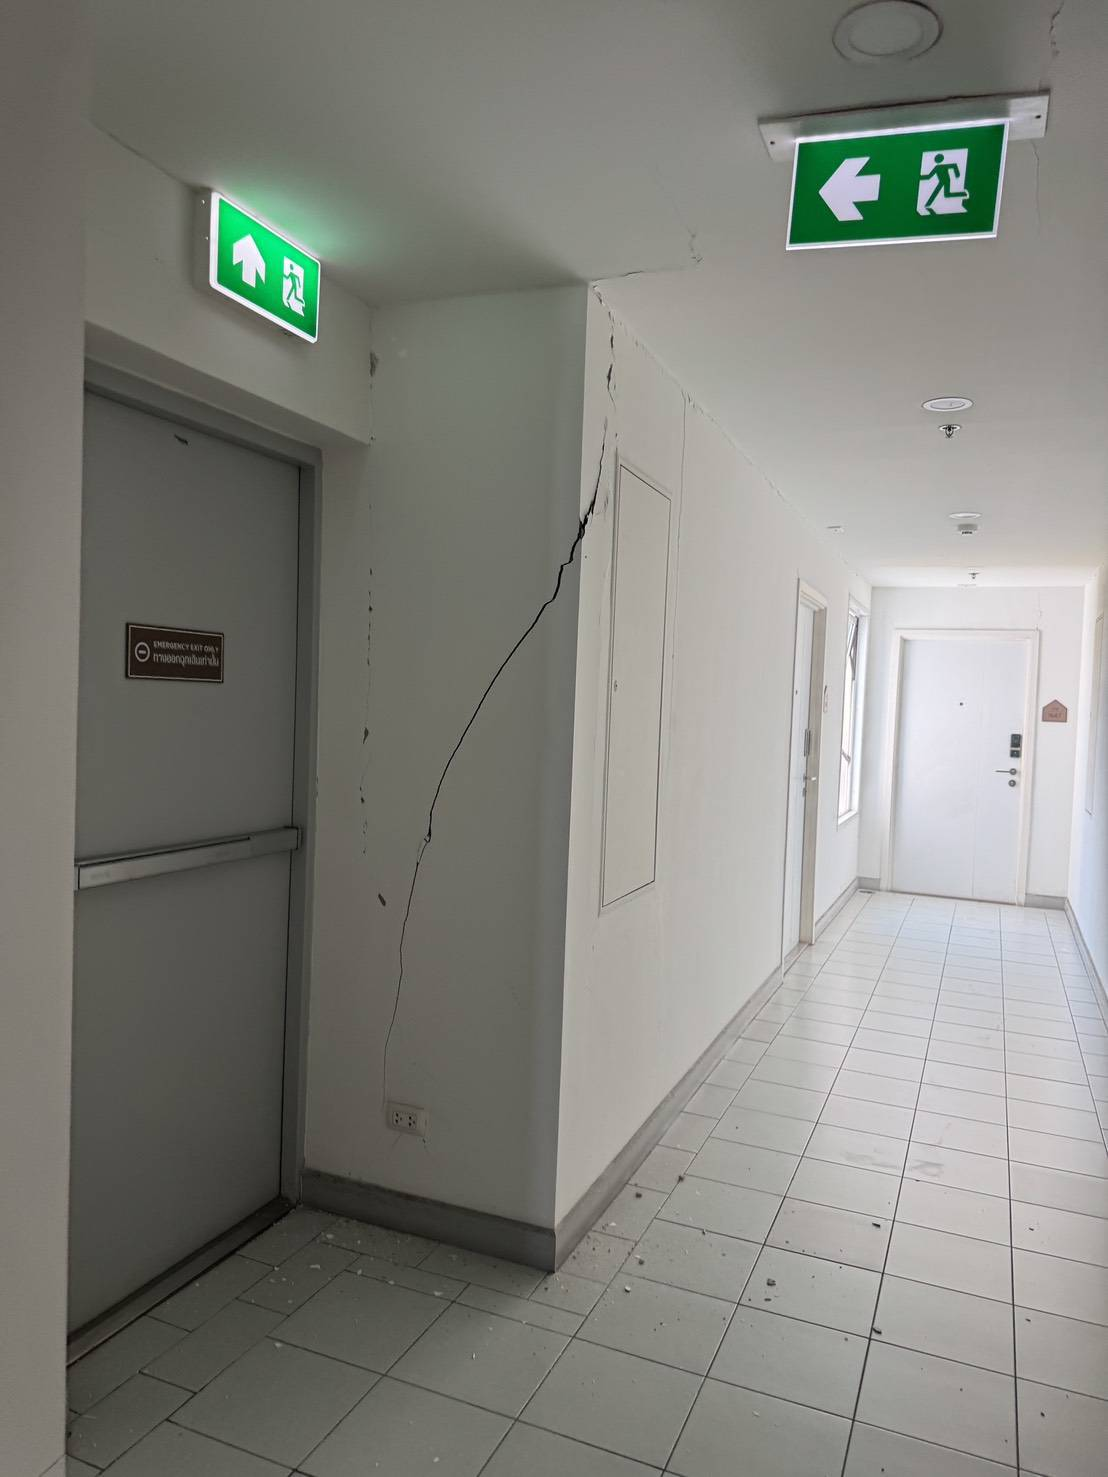Medium: (358, 475, 602, 937)
